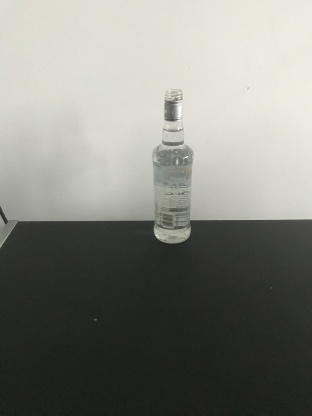nakretka: (162, 86, 184, 122)
